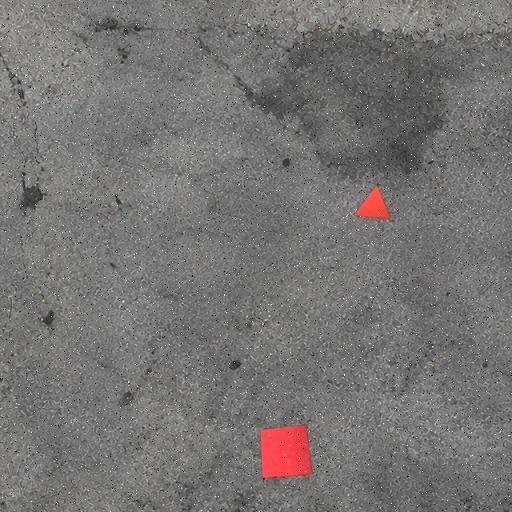RED_SQUARE: (259, 424, 313, 479)
